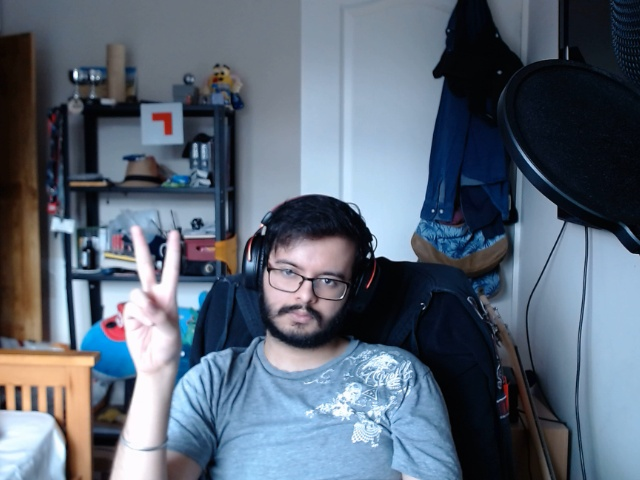Peace: (116, 213, 197, 378)
